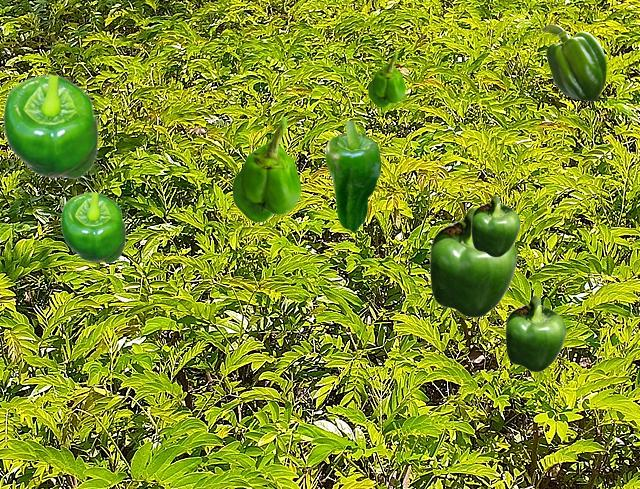bell_pepper: (2, 73, 98, 178), (429, 207, 516, 317), (232, 116, 300, 221), (325, 121, 380, 231), (541, 24, 605, 100), (60, 191, 125, 262), (505, 295, 565, 371), (471, 195, 519, 256), (368, 50, 404, 106)
